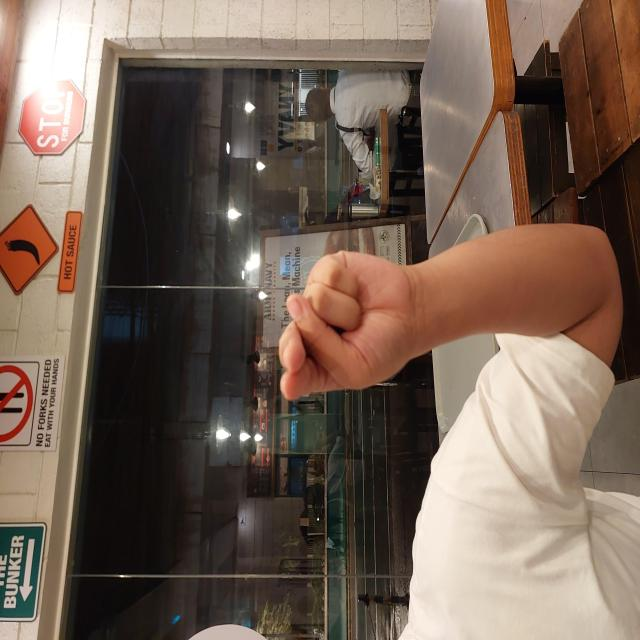N: (236, 277, 393, 418)
